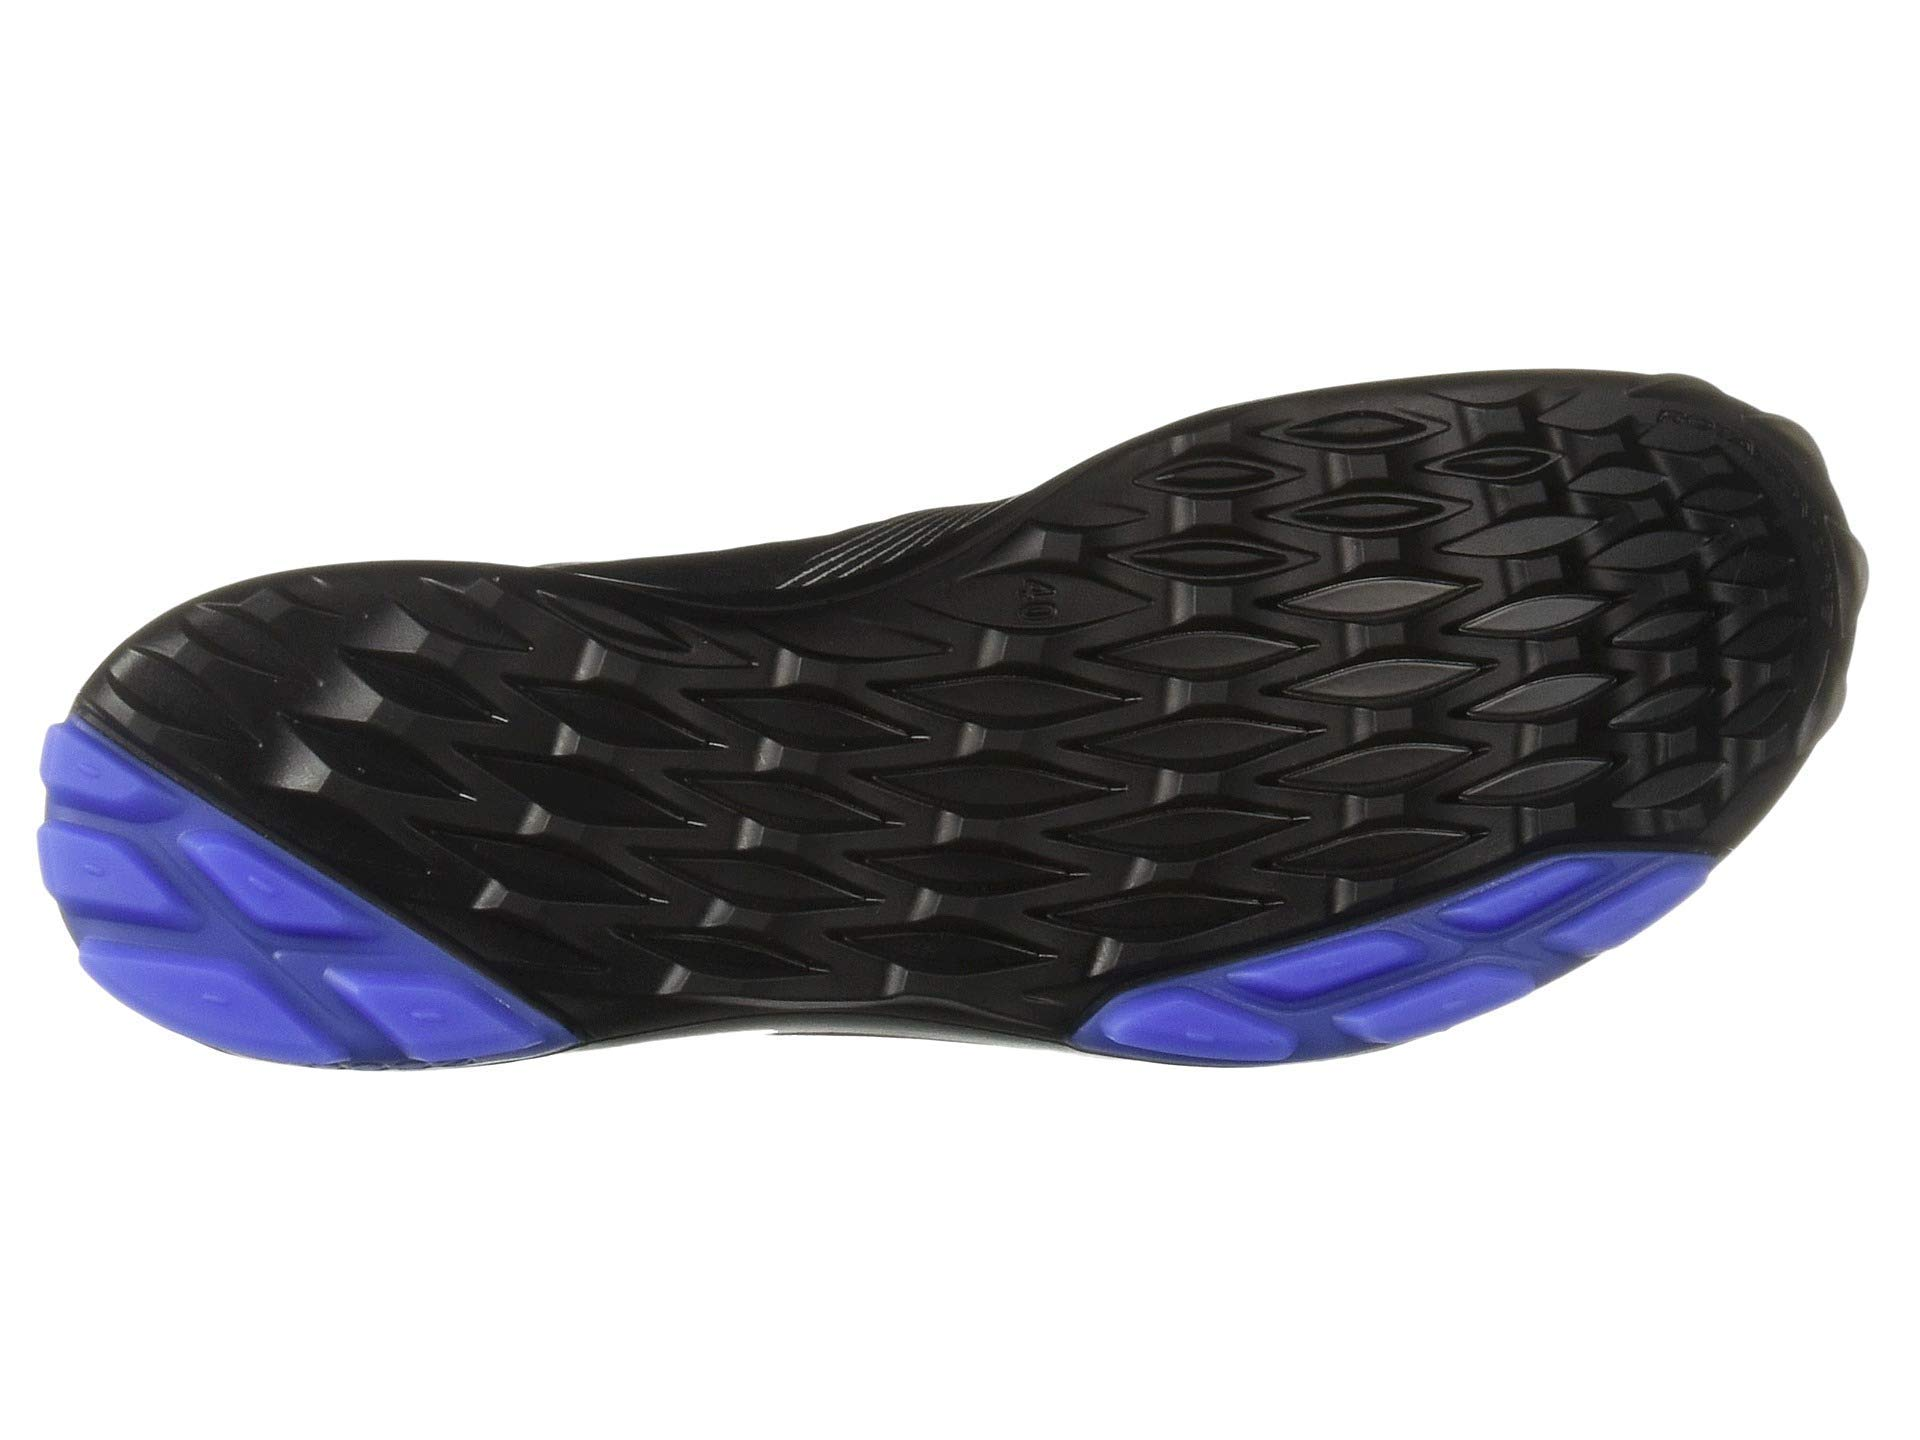quad: (127, 626, 1474, 992), (1463, 466, 1769, 861), (1116, 445, 1448, 622)
